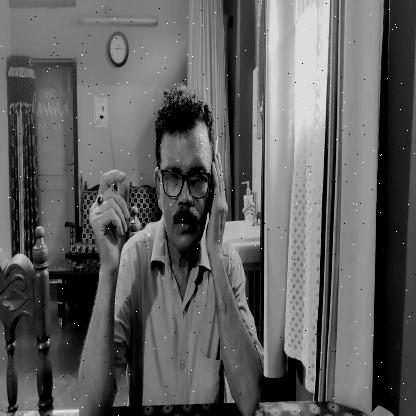Normal: (153, 89, 216, 256)
